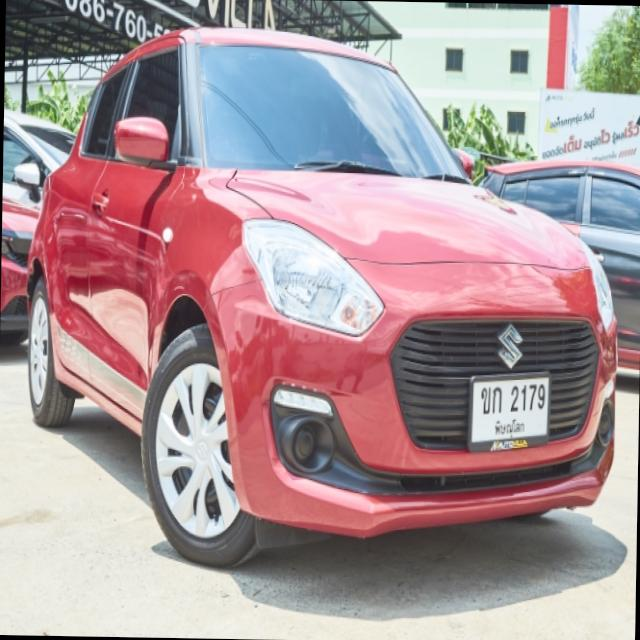license_plate: (467, 370, 552, 456)
